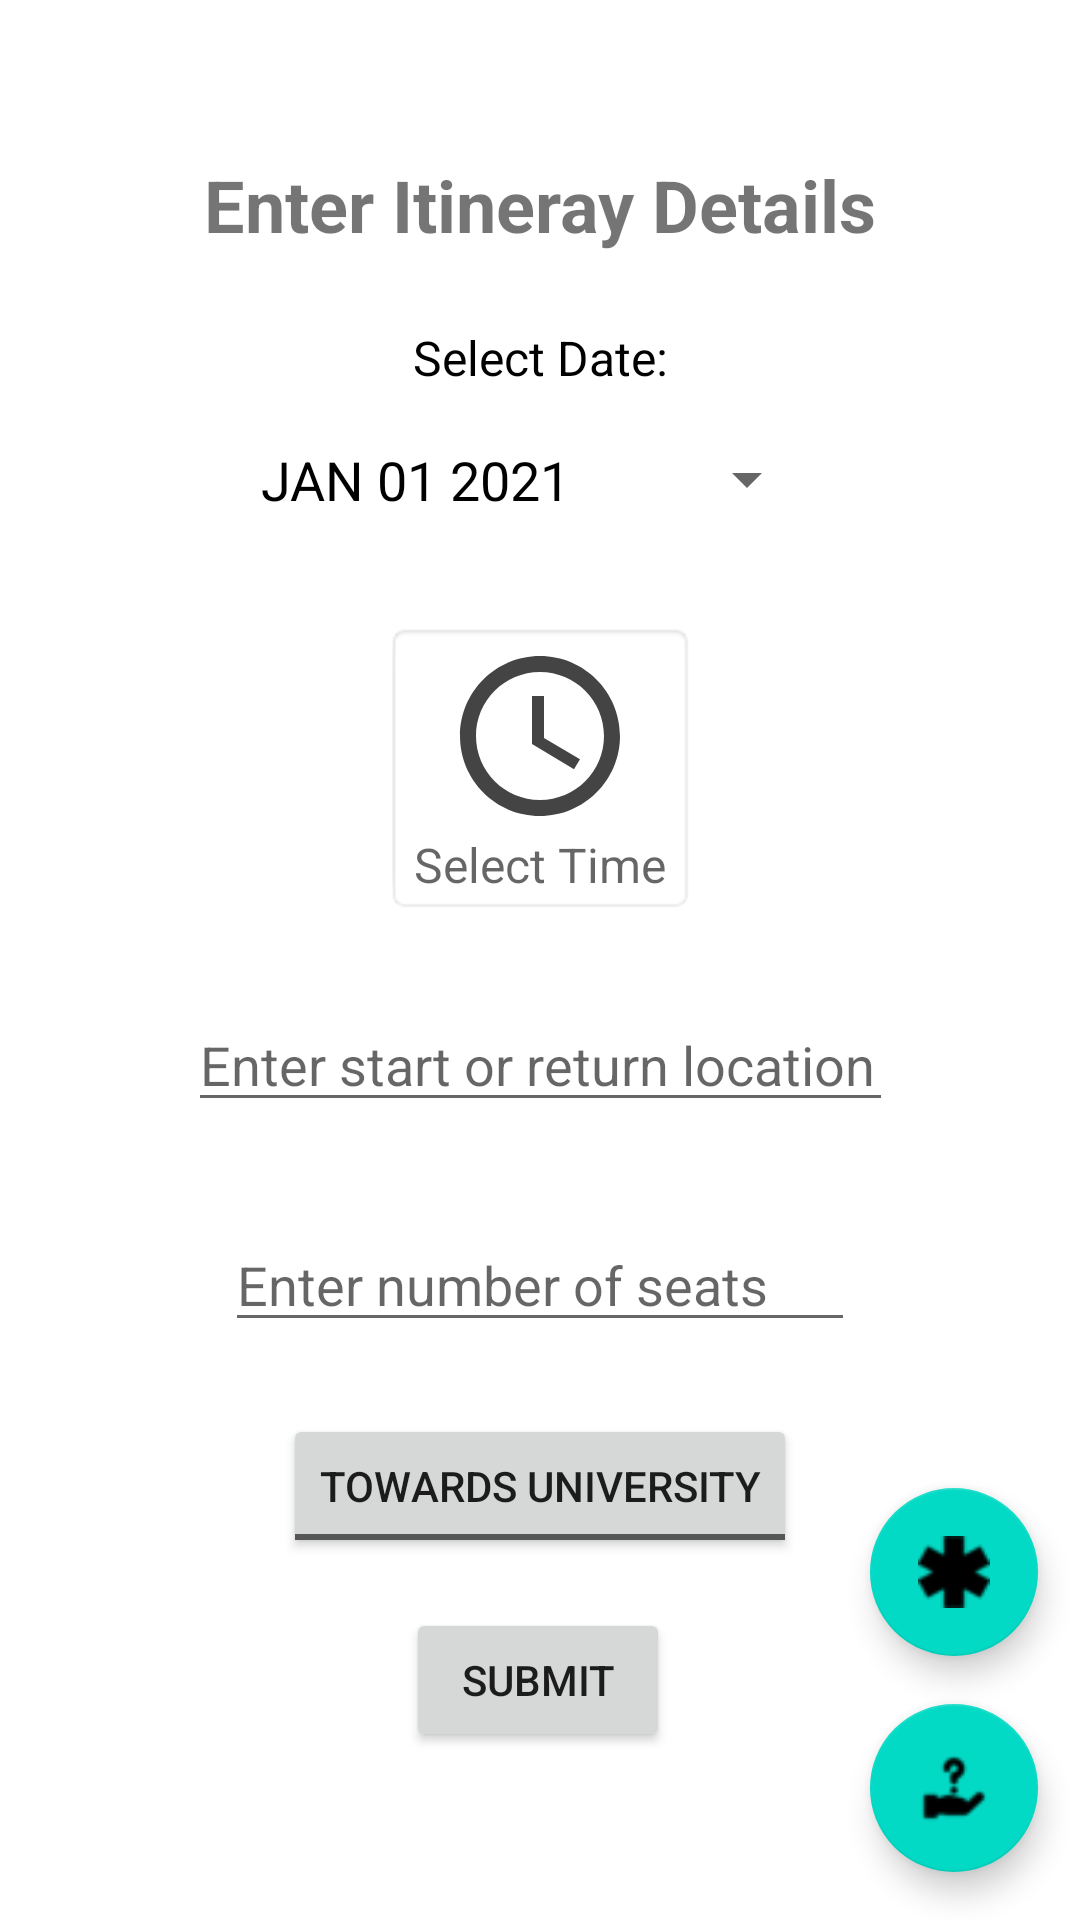

Named icons in this screenshot (1080*1920) and their centers, point (x, y):
help: point (954, 1788)
